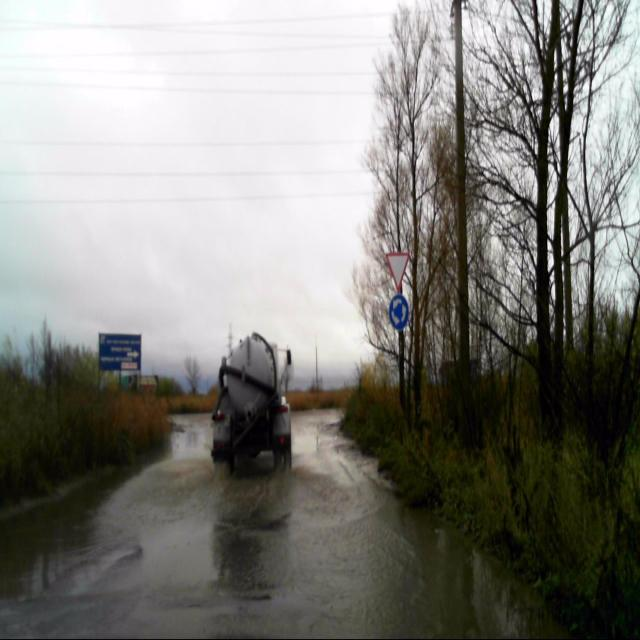road sign: (386, 251, 410, 291)
